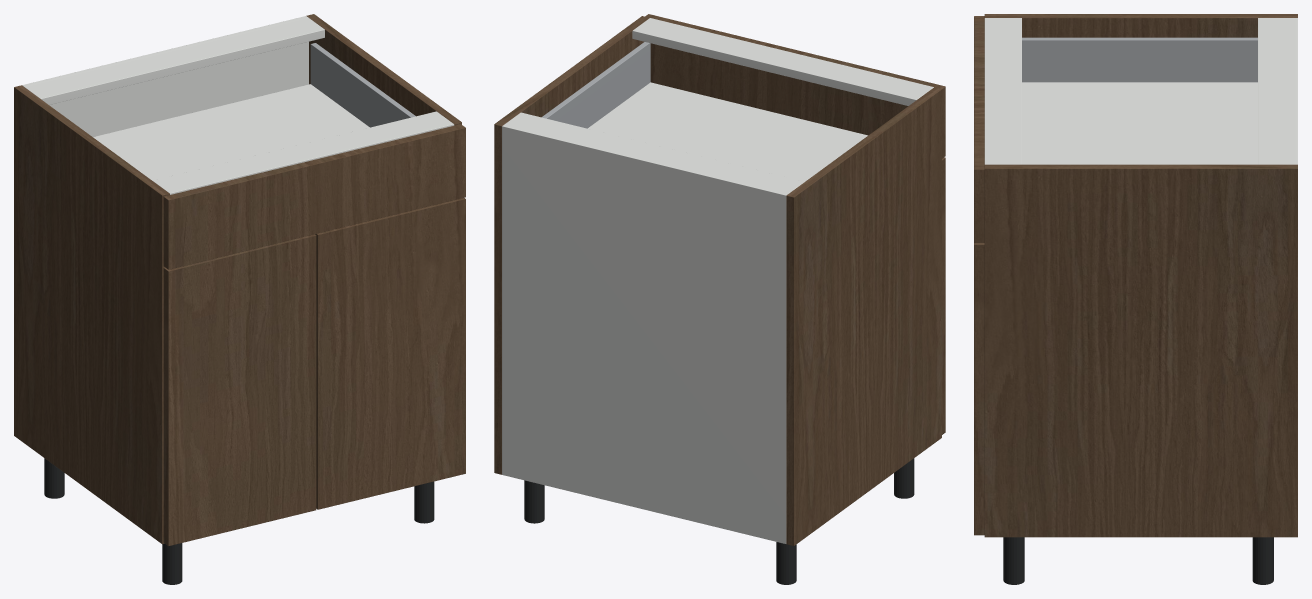
The model's file is oppein-pb-mso-b27.glb.
3 views of the same model, side by side, from view 1: azimuth 30°, elevation 25°; view 2: azimuth 150°, elevation 25°; view 3: azimuth 270°, elevation 25° (orthographic). The views are drawn at different scales.
Parts seen in each view (by area): view 1: Cabinet side, Door, Door.001, Drawer front, Drawer floor, Cabinet back, Top support rail, Top support rail.001, Drawer side.001, Cabinet side.001, Adjustable foot.001, Adjustable foot.003 (+1 smaller); view 2: Cabinet back, Cabinet side, Drawer floor, Drawer front, Top support rail.001, Cabinet side.001, Top support rail, Drawer side.001, Door, Adjustable foot, Adjustable foot.002, Adjustable foot.001; view 3: Cabinet side.001, Drawer floor, Drawer side, Cabinet side, Top support rail.001, Top support rail, Door.001, Drawer front, Adjustable foot.003, Adjustable foot.002, Cabinet back.
Part boxes in pixels (x1,y1,x2,y2): Cabinet side: [14, 85, 169, 544]; Door: [163, 234, 316, 546]; Door.001: [315, 198, 465, 509]; Drawer front: [163, 124, 465, 269]; Drawer floor: [93, 84, 369, 180]; Cabinet back: [22, 16, 308, 136]; Top support rail: [23, 18, 324, 104]; Top support rail.001: [153, 111, 454, 194]; Drawer side.001: [310, 43, 415, 127]; Cabinet side.001: [306, 14, 461, 125]; Adjustable foot.001: [162, 543, 182, 584]; Adjustable foot.003: [414, 481, 434, 523]; Cabinet back: [502, 124, 788, 543]; Cabinet side: [786, 87, 941, 545]; Drawer floor: [588, 82, 867, 181]; Drawer front: [645, 14, 945, 158]; Top support rail.001: [632, 18, 933, 105]; Cabinet side.001: [494, 16, 649, 474]; Top support rail: [505, 112, 804, 193]; Drawer side.001: [541, 42, 650, 128]; Door: [942, 157, 945, 434]; Adjustable foot: [776, 542, 796, 584]; Adjustable foot.002: [524, 480, 544, 523]; Adjustable foot.001: [894, 458, 914, 498]; Cabinet side.001: [984, 164, 1297, 537]; Drawer floor: [1022, 82, 1257, 164]; Drawer side: [1022, 37, 1257, 82]; Cabinet side: [984, 14, 1297, 37]; Top support rail.001: [984, 18, 1021, 164]; Top support rail: [1258, 18, 1291, 164]; Door.001: [974, 243, 984, 535]; Drawer front: [974, 16, 984, 242]; Adjustable foot.003: [1003, 537, 1024, 584]; Adjustable foot.002: [1252, 537, 1273, 584]; Cabinet back: [1292, 18, 1297, 164].
Bounding box in the file's own units: 0.6858 × 0.8763 × 0.6064.
4 materials, 1 textured.
